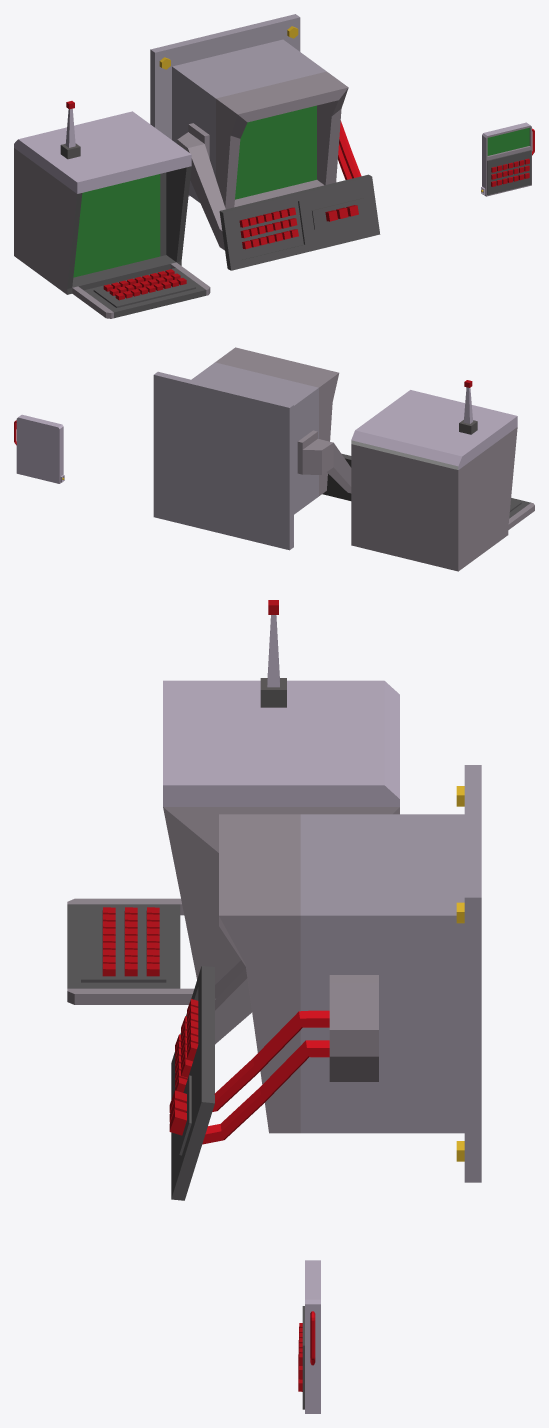
Rendered from Terminals.fbx.
3 views of the same model, one above another, from view 1: azimuth 30°, elevation 25°; view 2: azimuth 150°, elevation 25°; view 3: azimuth 270°, elevation 25° (orthographic). The views are drawn at different scales.
Parts seen in each view (by area): view 1: terminal_1, terminal_2, terminal_3, Cube, Cube.004, Cube.002; view 2: terminal_1, terminal_2, terminal_3; view 3: terminal_1, terminal_2, Cube.004, terminal_3, Cube.
Boxes of the visible parts, box(x1,y1,x2,y2) form: terminal_1: box(150, 14, 380, 270); terminal_2: box(14, 101, 210, 318); terminal_3: box(481, 122, 534, 196); Cube: box(239, 207, 298, 249); Cube.004: box(103, 269, 186, 300); Cube.002: box(491, 158, 529, 186); terminal_1: box(153, 347, 351, 550); terminal_2: box(351, 380, 534, 571); terminal_3: box(14, 414, 64, 483); terminal_1: box(171, 765, 481, 1200); terminal_2: box(67, 600, 399, 1004); Cube.004: box(102, 907, 159, 976); terminal_3: box(302, 1260, 320, 1413); Cube: box(175, 999, 198, 1092).
Bounding box in the file's own units: 137 × 53.62 × 52.77.
